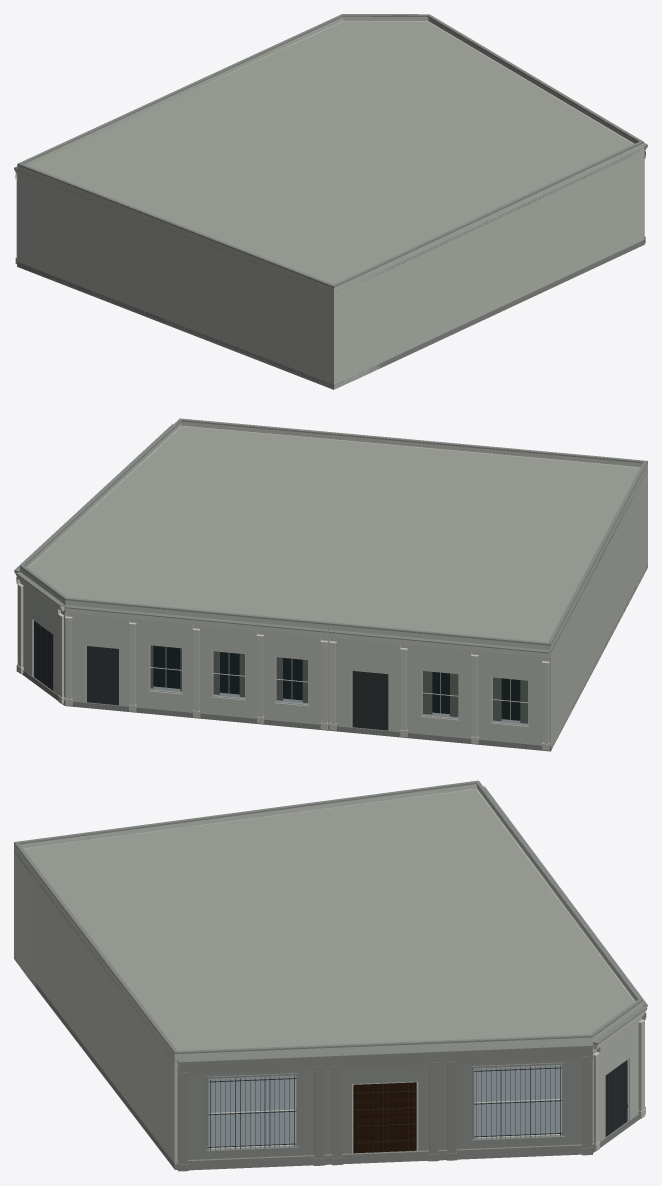
Rendered from building.glb.
3 views of the same model, one above another, from view 1: azimuth 30°, elevation 25°; view 2: azimuth 150°, elevation 25°; view 3: azimuth 270°, elevation 25° (orthographic). The views are drawn at different scales.
Parts seen in each view (by area): view 1: roof/bank:0/roof_slab#0001, bank:0/edge0/z0/bank:0/edge0/z0/wall_0_0, bank:0/edge3/z0/bank:0/edge3/z0/wall_0_0, roof/bank:0/parapet#0001, roof/bank:0/parapet_cap#0002, bank:0/edge1/z0/bank:0/edge1/z0/wall_0_0, roof/bank:0/parapet_cap#0001, bank:0/edge0/z0/plinth#0001, bank:0/edge3/z0/plinth#0001, bank:0/edge2/z0/bank:0/edge2/z0/wall_0_0; view 2: roof/bank:0/roof_slab#0001, bank:0/edge0/z0/bank:0/edge0/z0/wall_0_0, roof/bank:0/parapet#0001, bank:0/edge7/z0/bank:0/edge7/z0/wall_0_0/clip12, bank:0/edge8/z0/bank:0/edge8/z0/wall_0_0/clip10, roof/bank:0/parapet_cap#0002, bank:0/edge7/z0/bank:0/edge7/z0/wall_0_0/clip2, bank:0/edge8/z0/bank:0/edge8/z0/wall_0_0/clip2, roof/bank:0/parapet_cap#0001, bank:0/edge6/z0/bank:0/edge6/z0/wall_0_0, bank:0/edge8/z0/opening_u1.08_v0.05/door_leaf#0001, bank:0/edge7/z0/opening_u1.00_v0.05/door_leaf#0001 (+40 smaller); view 3: roof/bank:0/roof_slab#0001, bank:0/edge3/z0/bank:0/edge3/z0/wall_0_0, bank:0/edge5/z0/bank:0/edge5/z0/coating_0_0_0, roof/bank:0/parapet#0001, bank:0/edge5/z0/opening_u1.37_v0.90/window_panel#0001, bank:0/edge5/z0/opening_u13.19_v0.90/window_panel#0001, roof/bank:0/parapet_cap#0002, bank:0/edge5/z0/proj_panel_07/facade_projection_panel#0001, bank:0/edge5/z0/opening_u7.76_v0.04/door_leaf#0001, bank:0/edge5/z0/proj_panel_08/facade_projection_panel#0001, bank:0/edge6/z0/bank:0/edge6/z0/wall_0_0, roof/bank:0/parapet_cap#0001 (+14 smaller).
Part boxes in pixels (box(x1,y1,x2,y2)): roof/bank:0/roof_slab#0001: box(17, 21, 640, 294); bank:0/edge0/z0/bank:0/edge0/z0/wall_0_0: box(17, 169, 333, 389); bank:0/edge3/z0/bank:0/edge3/z0/wall_0_0: box(376, 147, 644, 369); roof/bank:0/parapet#0001: box(17, 16, 644, 292); roof/bank:0/parapet_cap#0002: box(18, 14, 643, 286); bank:0/edge1/z0/bank:0/edge1/z0/wall_0_0: box(334, 279, 361, 389); roof/bank:0/parapet_cap#0001: box(17, 15, 644, 287); bank:0/edge0/z0/plinth#0001: box(17, 262, 333, 389); bank:0/edge3/z0/plinth#0001: box(376, 240, 644, 369); bank:0/edge2/z0/bank:0/edge2/z0/wall_0_0: box(362, 273, 376, 376); roof/bank:0/roof_slab#0001: box(28, 426, 647, 652); bank:0/edge0/z0/bank:0/edge0/z0/wall_0_0: box(551, 467, 647, 749); roof/bank:0/parapet#0001: box(20, 421, 647, 650); bank:0/edge7/z0/bank:0/edge7/z0/wall_0_0/clip12: box(65, 605, 329, 661); bank:0/edge8/z0/bank:0/edge8/z0/wall_0_0/clip10: box(329, 629, 550, 681); roof/bank:0/parapet_cap#0002: box(20, 418, 647, 644); bank:0/edge7/z0/bank:0/edge7/z0/wall_0_0/clip2: box(120, 688, 329, 725); bank:0/edge8/z0/bank:0/edge8/z0/wall_0_0/clip2: box(389, 714, 550, 745); roof/bank:0/parapet_cap#0001: box(20, 420, 647, 645); bank:0/edge6/z0/bank:0/edge6/z0/wall_0_0: box(20, 581, 65, 700); bank:0/edge8/z0/opening_u1.08_v0.05/door_leaf#0001: box(352, 671, 388, 730); bank:0/edge7/z0/opening_u1.00_v0.05/door_leaf#0001: box(87, 646, 118, 705); roof/bank:0/roof_slab#0001: box(14, 789, 634, 1062); bank:0/edge3/z0/bank:0/edge3/z0/wall_0_0: box(35, 878, 174, 1163); bank:0/edge5/z0/bank:0/edge5/z0/coating_0_0_0: box(177, 1046, 592, 1160); roof/bank:0/parapet#0001: box(14, 784, 642, 1059); bank:0/edge5/z0/opening_u1.37_v0.90/window_panel#0001: box(209, 1076, 294, 1147); bank:0/edge5/z0/opening_u13.19_v0.90/window_panel#0001: box(475, 1065, 559, 1137); roof/bank:0/parapet_cap#0002: box(14, 780, 641, 1052); bank:0/edge5/z0/proj_panel_07/facade_projection_panel#0001: box(177, 1144, 592, 1170); bank:0/edge5/z0/opening_u7.76_v0.04/door_leaf#0001: box(353, 1082, 416, 1153); bank:0/edge5/z0/proj_panel_08/facade_projection_panel#0001: box(177, 1049, 592, 1075); bank:0/edge6/z0/bank:0/edge6/z0/wall_0_0: box(592, 1017, 641, 1144); roof/bank:0/parapet_cap#0001: box(14, 783, 642, 1053).
Size of the model in its own units: 28.91 by 5.72 by 28.08.
10 materials, 1 textured.
